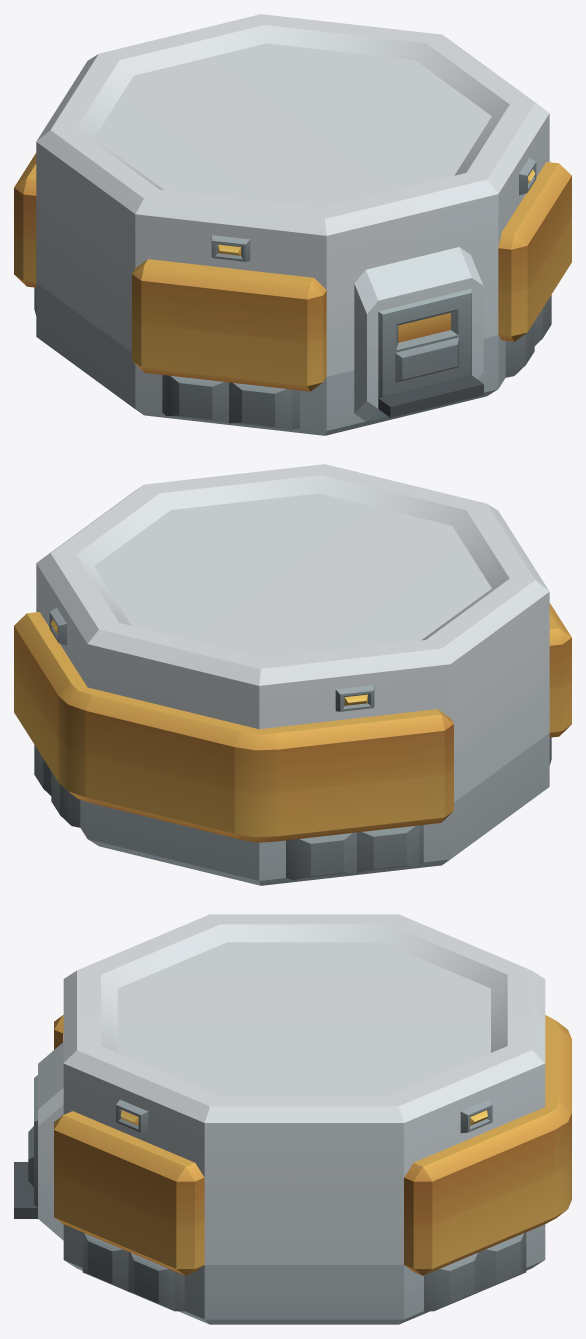
File: kay-modulo-domo.gltf
3 views of the same model, one above another, from view 1: azimuth 30°, elevation 25°; view 2: azimuth 150°, elevation 25°; view 3: azimuth 270°, elevation 25° (orthographic).
Parts seen in each view (by area): view 1: basemodule_B; view 2: basemodule_B; view 3: basemodule_B.
Part boxes in pixels (x1,y1,x2,y2): basemodule_B: [14, 14, 571, 435]; basemodule_B: [14, 464, 571, 885]; basemodule_B: [14, 914, 571, 1324].
Bounding box in the file's own units: 5.41 × 2.6 × 6.02.
Materials: 1 (1 with a texture image).
